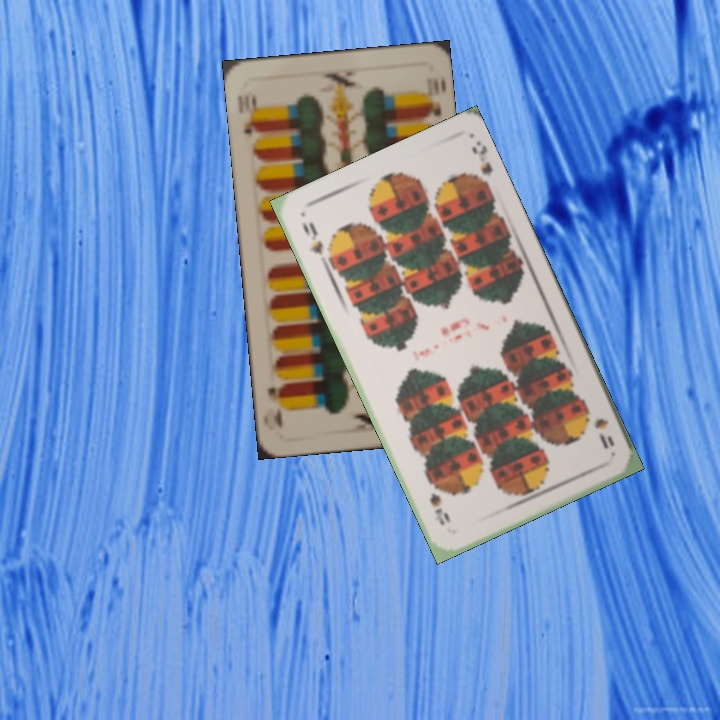E10: (233, 89, 263, 137)
S9: (581, 401, 617, 452), (297, 218, 326, 259)
